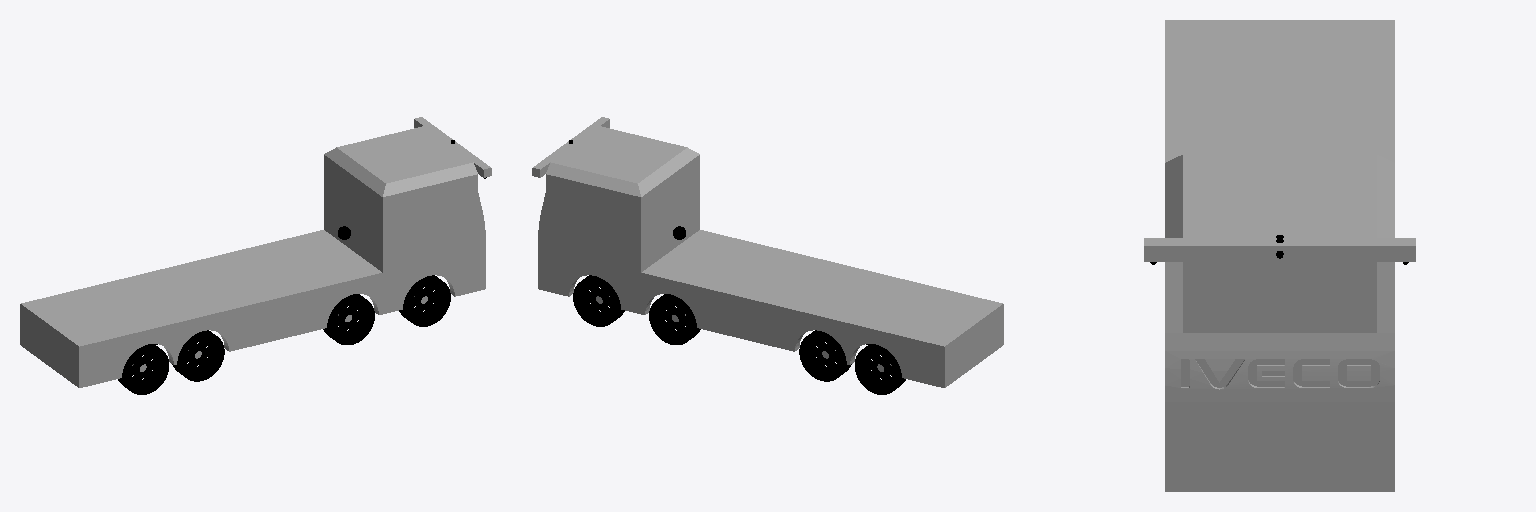
The robot description file, URDF, robot "truck":
<?xml version="1.0" ?>
<!-- =================================================================================== -->
<!-- |    This document was autogenerated by xacro from piramide_truck.xacro           | -->
<!-- |    EDITING THIS FILE BY HAND IS NOT RECOMMENDED                                 | -->
<!-- =================================================================================== -->
<robot name="truck">
	<material name="silver">
		<color rgba="0.700 0.700 0.700 1.000"/>
	</material>
	<material name="black">
		<color rgba="0.0 0.0 0.0 1.000"/>
	</material>
	<link name="base_link">
		<inertial>
			<origin rpy="0 0 0" xyz="-2.315789406362742 0.060309099677358306 2.0832863727326365"/>
			<mass value="11829.5199"/>
			<inertia ixx="14576.4006" ixy="0.422464" ixz="13482.4383" iyy="98410.5574" iyz="0.103473" izz="98414.9426"/>
		</inertial>
		<visual>
			<origin rpy="0 0 0" xyz="0 0 0"/>
			<geometry>
				<mesh filename="full/base_link.stl" scale="0.001 0.001 0.001"/>
			</geometry>
			<material name="silver"/>
		</visual>
	</link>
	<link name="left_wheel_axis4_1">
		<inertial>
			<origin rpy="0 0 0" xyz="3.472872993626197e-07 4.744911922260897e-07 4.782199592989755e-07"/>
			<mass value="121.3100"/>
			<inertia ixx="13.0741" ixy="0" ixz="0" iyy="24.2102" iyz="0" izz="13.0741"/>
		</inertial>
		<visual>
			<origin rpy="0 0 0" xyz="-3.333571 0.983719 -0.602025"/>
			<geometry>
				<mesh filename="full/left_wheel_axis4_1.stl" scale="0.001 0.001 0.001"/>
			</geometry>
			<material name="black"/>
		</visual>
	</link>
	<link name="left_wheel_axis3_1">
		<inertial>
			<origin rpy="0 0 0" xyz="3.472872989185305e-07 4.744911920040451e-07 4.782199596320424e-07"/>
			<mass value="121.3100"/>
			<inertia ixx="13.0741" ixy="0" ixz="0" iyy="24.2102" iyz="0" izz="13.0741"/>
		</inertial>
		<visual>
			<origin rpy="0 0 0" xyz="-1.951571 0.983719 -0.602025"/>
			<geometry>
				<mesh filename="full/left_wheel_axis3_1.stl" scale="0.001 0.001 0.001"/>
			</geometry>
			<material name="black"/>
		</visual>
	</link>
	<link name="right_wheel_axis4_1">
		<inertial>
			<origin rpy="0 0 0" xyz="3.472872993626197e-07 4.744911921150674e-07 4.78219957633641e-07"/>
			<mass value="121.3100"/>
			<inertia ixx="13.0741" ixy="0" ixz="0" iyy="24.2102" iyz="0" izz="13.0741"/>
		</inertial>
		<visual>
			<origin rpy="0 0 0" xyz="-3.333571 -1.104281 -0.602025"/>
			<geometry>
				<mesh filename="full/right_wheel_axis4_1.stl" scale="0.001 0.001 0.001"/>
			</geometry>
			<material name="black"/>
		</visual>
	</link>
	<link name="right_wheel_axis3_1">
		<inertial>
			<origin rpy="0 0 0" xyz="3.472873000287535e-07 4.744911921150674e-07 4.782199595210201e-07"/>
			<mass value="121.3100"/>
			<inertia ixx="13.0741" ixy="0" ixz="0" iyy="24.2102" iyz="0" izz="13.0741"/>
		</inertial>
		<visual>
			<origin rpy="0 0 0" xyz="-1.951571 -1.104281 -0.602025"/>
			<geometry>
				<mesh filename="full/right_wheel_axis3_1.stl" scale="0.001 0.001 0.001"/>
			</geometry>
			<material name="black"/>
		</visual>
	</link>
	<link name="left_wheel_axis2_1">
		<inertial>
			<origin rpy="0 0 0" xyz="3.472872989185305e-07 4.744911910048444e-07 4.782199599651094e-07"/>
			<mass value="121.3100"/>
			<inertia ixx="13.0741" ixy="0" ixz="0" iyy="24.2102" iyz="0" izz="13.0741"/>
		</inertial>
		<visual>
			<origin rpy="0 0 0" xyz="1.798429 1.005219 -0.602025"/>
			<geometry>
				<mesh filename="full/left_wheel_axis2_1.stl" scale="0.001 0.001 0.001"/>
			</geometry>
			<material name="black"/>
		</visual>
	</link>
	<link name="left_steer_axis2_link">
		<inertial>
			<origin rpy="0 0 0" xyz="0 0 0"/>
			<mass value="0.01"/>
			<inertia ixx="1e-5" ixy="0" ixz="0" iyy="1e-5" iyz="0" izz="1e-5"/>
		</inertial>
	</link>
	<link name="right_wheel_axis2_1">
		<inertial>
			<origin rpy="0 0 0" xyz="3.472873000287535e-07 4.744911910048444e-07 4.782199599651094e-07"/>
			<mass value="121.3100"/>
			<inertia ixx="13.0741" ixy="0" ixz="0" iyy="24.2102" iyz="0" izz="13.0741"/>
		</inertial>
		<visual>
			<origin rpy="0 0 0" xyz="1.798429 -1.125781 -0.602025"/>
			<geometry>
				<mesh filename="full/right_wheel_axis2_1.stl" scale="0.001 0.001 0.001"/>
			</geometry>
			<material name="black"/>
		</visual>
	</link>
	<link name="right_steer_axis2_link">
		<inertial>
			<origin rpy="0 0 0" xyz="0 0 0"/>
			<mass value="0.01"/>
			<inertia ixx="1e-5" ixy="0" ixz="0" iyy="1e-5" iyz="0" izz="1e-5"/>
		</inertial>
	</link>
	<link name="left_wheel_axis1_1">
		<inertial>
			<origin rpy="0 0 0" xyz="3.472872993626197e-07 4.744911910048444e-07 4.78219960187154e-07"/>
			<mass value="121.3100"/>
			<inertia ixx="13.0741" ixy="0" ixz="0" iyy="24.2102" iyz="0" izz="13.0741"/>
		</inertial>
		<visual>
			<origin rpy="0 0 0" xyz="3.698429 1.005219 -0.602025"/>
			<geometry>
				<mesh filename="full/left_wheel_axis1_1.stl" scale="0.001 0.001 0.001"/>
			</geometry>
			<material name="black"/>
		</visual>
	</link>
	<link name="left_steer_axis1_link">
		<inertial>
			<origin rpy="0 0 0" xyz="0 0 0"/>
			<mass value="0.01"/>
			<inertia ixx="1e-5" ixy="0" ixz="0" iyy="1e-5" iyz="0" izz="1e-5"/>
		</inertial>
	</link>
	<link name="right_wheel_axis1_1">
		<inertial>
			<origin rpy="0 0 0" xyz="3.472872993626197e-07 4.744911910048444e-07 4.78219960187154e-07"/>
			<mass value="121.3100"/>
			<inertia ixx="13.0741" ixy="0" ixz="0" iyy="24.2102" iyz="0" izz="13.0741"/>
		</inertial>
		<visual>
			<origin rpy="0 0 0" xyz="3.698429 -1.125781 -0.602025"/>
			<geometry>
				<mesh filename="full/right_wheel_axis1_1.stl" scale="0.001 0.001 0.001"/>
			</geometry>
			<material name="black"/>
		</visual>
	</link>
	<link name="right_steer_axis1_link">
		<inertial>
			<origin rpy="0 0 0" xyz="0 0 0"/>
			<mass value="0.01"/>
			<inertia ixx="1e-5" ixy="0" ixz="0" iyy="1e-5" iyz="0" izz="1e-5"/>
		</inertial>
	</link>
	<link name="ouster_link_1">
		<inertial>
			<origin rpy="0 0 0" xyz="1.868054972931077e-07 0.00045335605831459125 0.03028987258186744"/>
			<mass value="2.207020426893562"/>
			<inertia ixx="0.001578" ixy="0.0" ixz="-0.0" iyy="0.001594" iyz="-1.2e-05" izz="0.001651"/>
		</inertial>
		<visual>
			<origin rpy="0 0 0" xyz="5.034679 -0.060281 -3.602025"/>
			<geometry>
				<mesh filename="full/ouster_link_1.stl" scale="0.001 0.001 0.001"/>
			</geometry>
			<material name="black"/>
		</visual>
	</link>
	<link name="osdome_link1_1">
		<inertial>
			<origin rpy="0 0 0" xyz="-0.031863759259128877 0.00046348026222201716 3.249757445367152e-07"/>
			<mass value="2.304753434462314"/>
			<inertia ixx="0.001576" ixy="1.3e-05" ixz="0.0" iyy="0.001682" iyz="0.0" izz="0.001666"/>
		</inertial>
		<visual>
			<origin rpy="0 0 0" xyz="5.130429 -0.060281 -3.502025"/>
			<geometry>
				<mesh filename="full/osdome_link1_1.stl" scale="0.001 0.001 0.001"/>
			</geometry>
			<material name="black"/>
		</visual>
	</link>
	<link name="osdome_link2_1">
		<inertial>
			<origin rpy="0 0 0" xyz="5.005315175665714e-07 0.0004625137215177322 -0.03186362832646772"/>
			<mass value="2.304753434462314"/>
			<inertia ixx="0.001666" ixy="-0.0" ixz="-0.0" iyy="0.001682" iyz="1.3e-05" izz="0.001576"/>
		</inertial>
		<visual>
			<origin rpy="0 0 0" xyz="5.030429 1.33101 -3.402025"/>
			<geometry>
				<mesh filename="full/osdome_link2_1.stl" scale="0.001 0.001 0.001"/>
			</geometry>
			<material name="black"/>
		</visual>
	</link>
	<link name="osdome_link3_1">
		<inertial>
			<origin rpy="0 0 0" xyz="-3.998840369945356e-09 0.0004634825472478177 -0.03186362832646994"/>
			<mass value="2.304753434462314"/>
			<inertia ixx="0.001666" ixy="-0.0" ixz="-0.0" iyy="0.001682" iyz="1.3e-05" izz="0.001576"/>
		</inertial>
		<visual>
			<origin rpy="0 0 0" xyz="5.030008 -1.460281 -3.402025"/>
			<geometry>
				<mesh filename="full/osdome_link3_1.stl" scale="0.001 0.001 0.001"/>
			</geometry>
			<material name="black"/>
		</visual>
	</link>
	<joint name="left_rot_joint_a4" type="continuous">
		<origin rpy="0 0 0" xyz="3.333571 -0.983719 0.602025"/>
		<parent link="base_link"/>
		<child link="left_wheel_axis4_1"/>
		<axis xyz="0.0 -1.0 0.0"/>
	</joint>
	<joint name="left_rot_joint_a3" type="continuous">
		<origin rpy="0 0 0" xyz="1.951571 -0.983719 0.602025"/>
		<parent link="base_link"/>
		<child link="left_wheel_axis3_1"/>
		<axis xyz="0.0 -1.0 0.0"/>
	</joint>
	<joint name="right_rot_joint_a4" type="continuous">
		<origin rpy="0 0 0" xyz="3.333571 1.104281 0.602025"/>
		<parent link="base_link"/>
		<child link="right_wheel_axis4_1"/>
		<axis xyz="-0.0 -1.0 -0.0"/>
	</joint>
	<joint name="right_rot_joint_a3" type="continuous">
		<origin rpy="0 0 0" xyz="1.951571 1.104281 0.602025"/>
		<parent link="base_link"/>
		<child link="right_wheel_axis3_1"/>
		<axis xyz="-0.0 -1.0 -0.0"/>
	</joint>
	<joint name="left_rot_joint_a2" type="continuous">
		<!-- <origin xyz="-1.798429 -1.005219 0.602025" rpy="0 0 0"/> -->
		<origin rpy="0 0 0" xyz="-0.0 0.0 0.0"/>
		<parent link="left_steer_axis2_link"/>
		<child link="left_wheel_axis2_1"/>
		<axis xyz="0.0 -1.0 0.0"/>
	</joint>
	<joint name="left_steer_joint_a2" type="revolute">
		<origin rpy="0 0 0" xyz="-1.798429 -1.005219 0.602025"/>
		<parent link="base_link"/>
		<child link="left_steer_axis2_link"/>
		<axis xyz="0.0 -0.0 1.0"/>
		<limit effort="100" lower="-0.523599" upper="0.523599" velocity="100"/>
	</joint>
	<joint name="right_rot_joint_a2" type="continuous">
		<!-- <origin xyz="-1.798429 1.125781 0.602025" rpy="0 0 0"/> -->
		<origin rpy="0 0 0" xyz="0.0 0.0 0.0"/>
		<parent link="right_steer_axis2_link"/>
		<child link="right_wheel_axis2_1"/>
		<axis xyz="-0.0 -1.0 -0.0"/>
	</joint>
	<joint name="right_steer_joint_a2" type="revolute">
		<origin rpy="0 0 0" xyz="-1.798429 1.125781 0.602025"/>
		<parent link="base_link"/>
		<child link="right_steer_axis2_link"/>
		<axis xyz="-0.0 0.0 1.0"/>
		<limit effort="100" lower="-0.523599" upper="0.523599" velocity="100"/>
	</joint>
	<joint name="left_rot_joint_a1" type="continuous">
		<!-- <origin xyz="-3.698429 -1.005219 0.602025" rpy="0 0 0"/> -->
		<origin rpy="0 0 0" xyz="0.0 0.0 0.0"/>
		<parent link="left_steer_axis1_link"/>
		<child link="left_wheel_axis1_1"/>
		<axis xyz="0.0 -1.0 0.0"/>
	</joint>
	<joint name="left_steer_joint_a1" type="revolute">
		<origin rpy="0 0 0" xyz="-3.698429 -1.005219 0.602025"/>
		<parent link="base_link"/>
		<child link="left_steer_axis1_link"/>
		<axis xyz="0.0 -0.0 1.0"/>
		<limit effort="100" lower="-0.523599" upper="0.523599" velocity="100"/>
	</joint>
	<joint name="right_rot_joint_a1" type="continuous">
		<origin rpy="0 0 0" xyz="-0.0 0.0 0.0"/>
		<parent link="right_steer_axis1_link"/>
		<child link="right_wheel_axis1_1"/>
		<axis xyz="-0.0 -1.0 -0.0"/>
	</joint>
	<joint name="right_steer_joint_a1" type="revolute">
		<origin rpy="0 0 0" xyz="-3.698429 1.125781 0.602025"/>
		<parent link="base_link"/>
		<child link="right_steer_axis1_link"/>
		<axis xyz="-0.0 0.0 1.0"/>
		<limit effort="100" lower="-0.523599" upper="0.523599" velocity="100"/>
	</joint>
	<joint name="ouster_joint" type="fixed">
		<origin rpy="0 0 0" xyz="-5.034679 0.060281 3.602025"/>
		<parent link="base_link"/>
		<child link="ouster_link_1"/>
	</joint>
	<joint name="osdome_joint1" type="fixed">
		<origin rpy="0 0 0" xyz="-5.130429 0.060281 3.502025"/>
		<parent link="base_link"/>
		<child link="osdome_link1_1"/>
	</joint>
	<joint name="Rigid 16" type="fixed">
		<origin rpy="0 0 0" xyz="-5.030429 -1.33101 3.402025"/>
		<parent link="base_link"/>
		<child link="osdome_link2_1"/>
	</joint>
	<joint name="Rigid 17" type="fixed">
		<origin rpy="0 0 0" xyz="-5.030008 1.460281 3.402025"/>
		<parent link="base_link"/>
		<child link="osdome_link3_1"/>
	</joint>
	<link name="imu_link">
		<visual>
			<origin rpy="0 0 0" xyz="0 0 0"/>
			<geometry>
				<sphere radius="0.15"/>
			</geometry>
			<material name="black"/>
		</visual>
		<inertial>
			<origin rpy="0 0 0" xyz="0 0 0"/>
			<mass value="0.001"/>
			<inertia ixx="0.000000009" ixy="0" ixz="0" iyy="0.000000009" iyz="0" izz="0.000000009"/>
		</inertial>
	</link>
	<joint name="imu_joint" type="fixed">
		<parent link="base_link"/>
		<child link="imu_link"/>
		<origin rpy="0 0 0" xyz="-2.317907 0.060311 2.084352"/>
	</joint>
	<ros2_control name="Truck8x8Control" type="system">
		<hardware>
			<plugin>mujoco_ros2_control/MujocoSystemInterface</plugin>
			<param name="mujoco_model">/home/user/ros2_ws/install/observer/share/observer/worlds/truck_world.xml</param>
			<!-- Uncomment this to use the keyframe from shown file as the starting configuration. -->
			<!-- <param name="override_start_position_file">$(find mujoco_ros2_control_demos)/config/start_positions.xml</param> -->
			<!-- Override the slowdown settings in the Simulate App and run at 3x speed -->
			<param name="sim_speed_factor">1.0</param>
			<!-- Uncomment to start the simulation at a specific keyframe defined in the MJCF -->
			<!-- <param name="initial_keyframe">start_90</param> -->
			<!-- If set to true, will not launch the Simulate App window -->
			<param name="headless">false</param>
		</hardware>
		<joint name="left_steer_joint_a2">
			<command_interface name="position">
				<param name="min">-0.6108652381980153</param>
				<param name="max">0.6108652381980153</param>
			</command_interface>
			<state_interface name="position"/>
			<state_interface name="effort"/>
		</joint>
		<joint name="right_steer_joint_a2">
			<command_interface name="position">
				<param name="min">-0.6108652381980153</param>
				<param name="max">0.6108652381980153</param>
			</command_interface>
			<state_interface name="position"/>
			<state_interface name="effort"/>
		</joint>
		<joint name="left_steer_joint_a1">
			<command_interface name="position">
				<param name="min">-0.6108652381980153</param>
				<param name="max">0.6108652381980153</param>
			</command_interface>
			<state_interface name="position"/>
			<state_interface name="effort"/>
		</joint>
		<joint name="right_steer_joint_a1">
			<command_interface name="position">
				<param name="min">-0.6108652381980153</param>
				<param name="max">0.6108652381980153</param>
			</command_interface>
			<state_interface name="position"/>
			<state_interface name="effort"/>
		</joint>
		<joint name="left_rot_joint_a4">
			<command_interface name="velocity"/>
			<state_interface name="velocity"/>
			<state_interface name="position"/>
			<state_interface name="effort"/>
		</joint>
		<joint name="right_rot_joint_a4">
			<command_interface name="velocity"/>
			<state_interface name="velocity"/>
			<state_interface name="position"/>
			<state_interface name="effort"/>
		</joint>
		<joint name="left_rot_joint_a3">
			<command_interface name="velocity"/>
			<state_interface name="velocity"/>
			<state_interface name="position"/>
			<state_interface name="effort"/>
		</joint>
		<joint name="right_rot_joint_a3">
			<command_interface name="velocity"/>
			<state_interface name="velocity"/>
			<state_interface name="position"/>
			<state_interface name="effort"/>
		</joint>
		<joint name="left_rot_joint_a2">
			<command_interface name="velocity"/>
			<state_interface name="velocity"/>
			<state_interface name="position"/>
			<state_interface name="effort"/>
		</joint>
		<joint name="right_rot_joint_a2">
			<command_interface name="velocity"/>
			<state_interface name="velocity"/>
			<state_interface name="position"/>
			<state_interface name="effort"/>
		</joint>
		<joint name="left_rot_joint_a1">
			<command_interface name="velocity"/>
			<state_interface name="velocity"/>
			<state_interface name="position"/>
			<state_interface name="effort"/>
		</joint>
		<joint name="right_rot_joint_a1">
			<command_interface name="velocity"/>
			<state_interface name="velocity"/>
			<state_interface name="position"/>
			<state_interface name="effort"/>
		</joint>
		<sensor name="camera">
			<!-- Parameters will be used as is -->
			<param name="frame_name">camera_color_mujoco_frame</param>
			<param name="info_topic">/camera/color/camera_info</param>
			<param name="image_topic">/camera/color/image_raw</param>
			<param name="depth_topic">/camera/aligned_depth_to_color/image_raw</param>
		</sensor>
		<!-- WARNING: These lidar sensors are deprecated, including for test and legacy support only! -->
		<sensor name="lidar">
			<param name="frame_name">lidar_sensor_frame</param>
			<param name="angle_increment">0.025</param>
			<param name="min_angle">-0.3</param>
			<param name="max_angle">0.3</param>
			<param name="range_min">0.05</param>
			<param name="range_max">10</param>
			<param name="laserscan_topic">/scan</param>
		</sensor>
		<sensor name="pose">
			<param name="mujoco_type">pose</param>
			<param name="mujoco_sensor_name">body</param>
			<state_interface name="position.x"/>
			<state_interface name="position.y"/>
			<state_interface name="position.z"/>
			<state_interface name="orientation.x"/>
			<state_interface name="orientation.y"/>
			<state_interface name="orientation.z"/>
			<state_interface name="orientation.w"/>
		</sensor>
	</ros2_control>
	<!-- That is the way gz call the control manager. Do it by launch file instead in this setting
<xacro:include filename="$(find truck_control)/urdf/truck_control.gazebo" />
 -->
	<link name="base_footprint">
		<inertial>
			<mass value="0.0001"/>
			<inertia ixx="0.0001" ixy="0.0" ixz="0.0" iyy="0.0001" iyz="0.0" izz="0.0001"/>
		</inertial>
	</link>
	<joint name="base_joint" type="fixed">
		<parent link="base_footprint"/>
		<child link="base_link"/>
		<origin rpy="0 0 3.141592653589793" xyz="2.6815 0 0"/>
	</joint>
	<mujoco>
		<compiler assetdir="assets" balanceinertia="true" discardvisual="false" strippath="false"/>
	</mujoco>
</robot>

--- Facts derived from the render (not from the file) ---
The picture shows the robot from 3 angles, left to right: view 1: azimuth 30°, elevation 25°; view 2: azimuth 150°, elevation 25°; view 3: azimuth 270°, elevation 25°; orthographic projection.
Robot: truck — 19 links, 18 joints (4 revolute, 8 continuous, 6 fixed); root link base_footprint; default pose: all joints at 0.
Links seen in each view (by area): view 1: base_link, right_wheel_axis1_1, right_wheel_axis2_1, right_wheel_axis3_1, right_wheel_axis4_1; view 2: base_link, left_wheel_axis1_1, left_wheel_axis2_1, left_wheel_axis3_1, left_wheel_axis4_1; view 3: base_link.
Link boxes in pixels (x1,y1,x2,y2): base_link: (20, 117, 491, 387); right_wheel_axis1_1: (399, 275, 450, 326); right_wheel_axis2_1: (323, 294, 374, 344); right_wheel_axis3_1: (172, 330, 224, 381); right_wheel_axis4_1: (118, 344, 168, 394); base_link: (532, 117, 1003, 387); left_wheel_axis1_1: (573, 275, 624, 326); left_wheel_axis2_1: (649, 294, 700, 344); left_wheel_axis3_1: (799, 330, 851, 381); left_wheel_axis4_1: (855, 344, 905, 394); base_link: (1144, 20, 1415, 491).
Bounding box of the posed robot: 10.26 × 3.02 × 3.64 m (x, y, z).
Meshes: 13 distinct files referenced, 13 mesh visuals loaded (13 binary STL).
